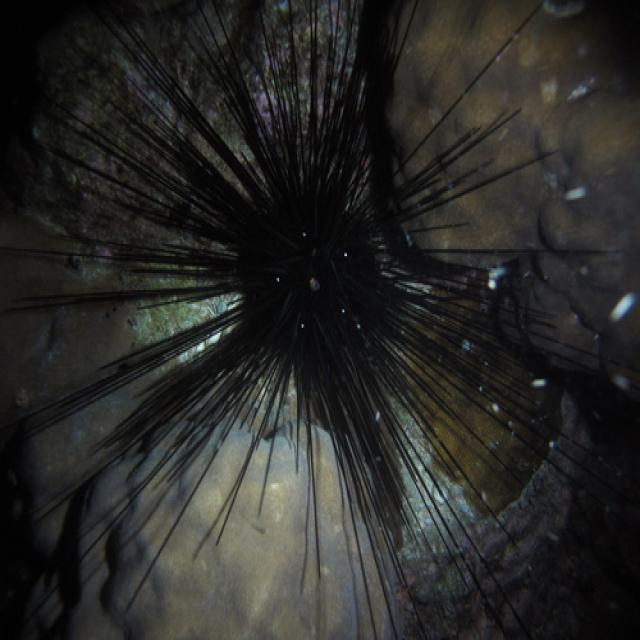Urchin: (42, 20, 570, 572)
